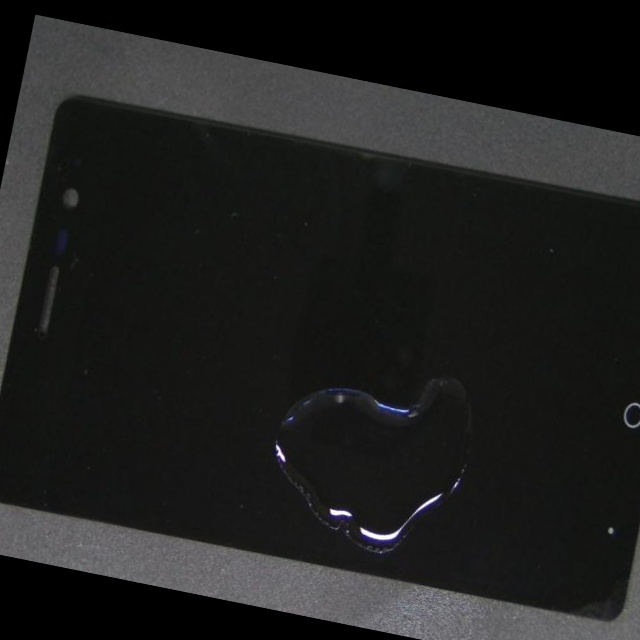oil: (109, 274, 624, 640)
